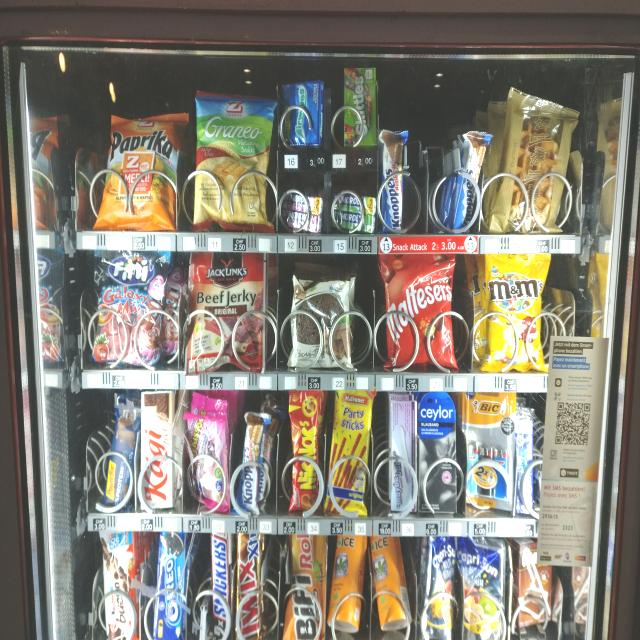airwaves_menthoneucalyptus_riegel_14_1_50173167: (284, 80, 322, 146)
bifi_roll__50__4251097402635: (284, 532, 326, 640)
bueno___43__4008400320328: (100, 527, 141, 640)
c-swiss_dosenabisicetea__33__9120025930135: (371, 534, 414, 629), (330, 534, 368, 631)
caprisun_multivitamin__20__4000177605004: (458, 534, 506, 640), (424, 536, 461, 636)
comella_schokodrink__33__7613100037253: (517, 537, 555, 631)
fini_galaxymix_packung_100_1_8410525150364: (91, 248, 162, 365)
fini_jellykisses_packung_80_1_8410525116704: (184, 407, 229, 508)
jacklinks_beefjerkyorginal__25__4047751730219: (185, 248, 268, 370)
jlbrichard_gauffre__90__5410495002000: (498, 90, 562, 230)
kagi___50__7610046000259: (140, 389, 176, 509)
knoppers_riegel____4035800488808: (236, 410, 268, 517), (452, 130, 483, 225), (378, 126, 406, 230)
lorenz_nicnacs__40__4018077798818: (286, 386, 324, 516)
malburner_partysticks__40__7610200279682: (330, 386, 372, 516)
maltesers___100__5000159023061: (380, 250, 460, 369)
mnms_gelb__45__40111445: (482, 250, 547, 366)
oreo___66__84100733: (152, 531, 188, 636)
powerbar_proteinplusschoko__55__4029679520028: (100, 396, 135, 506)
skittles_sour_riegel_51_1_: (342, 66, 376, 148)
snickers___50__5000159461122: (210, 532, 232, 640)
stimorol_spearmint_riegel_14_1_: (331, 191, 375, 233)
stimorol_wildcherry_riegel_14_1_57060330: (278, 192, 322, 235)
twix___50__5000159459228: (236, 529, 264, 640)
zweifel_graneochilli__100__7610095184009: (192, 88, 272, 226)
zweifel_paprika__90__7610095013002: (96, 107, 182, 230)
